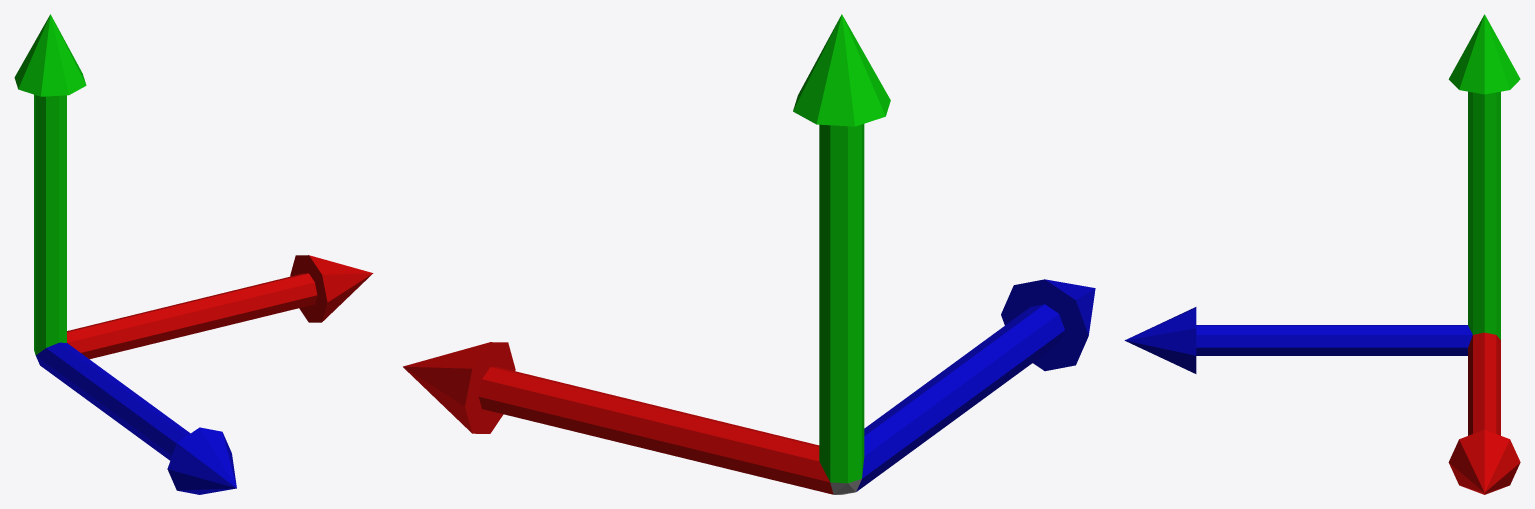
Rendered from 3axis.obj.
The picture shows the model from 3 angles, left to right: view 1: azimuth 30°, elevation 25°; view 2: azimuth 150°, elevation 25°; view 3: azimuth 270°, elevation 25°; orthographic projection. The views are drawn at different scales.
Visible parts, largest first — view 1: Cone.000_Cone.004; view 2: Cone.000_Cone.004; view 3: Cone.000_Cone.004.
Boxes of the visible parts, x1,y1,x2,y2 form: Cone.000_Cone.004: (14, 14, 373, 494); Cone.000_Cone.004: (403, 14, 1095, 494); Cone.000_Cone.004: (1124, 14, 1520, 494).
Bounding box in the file's own units: 1.1 × 1.1 × 1.1.
